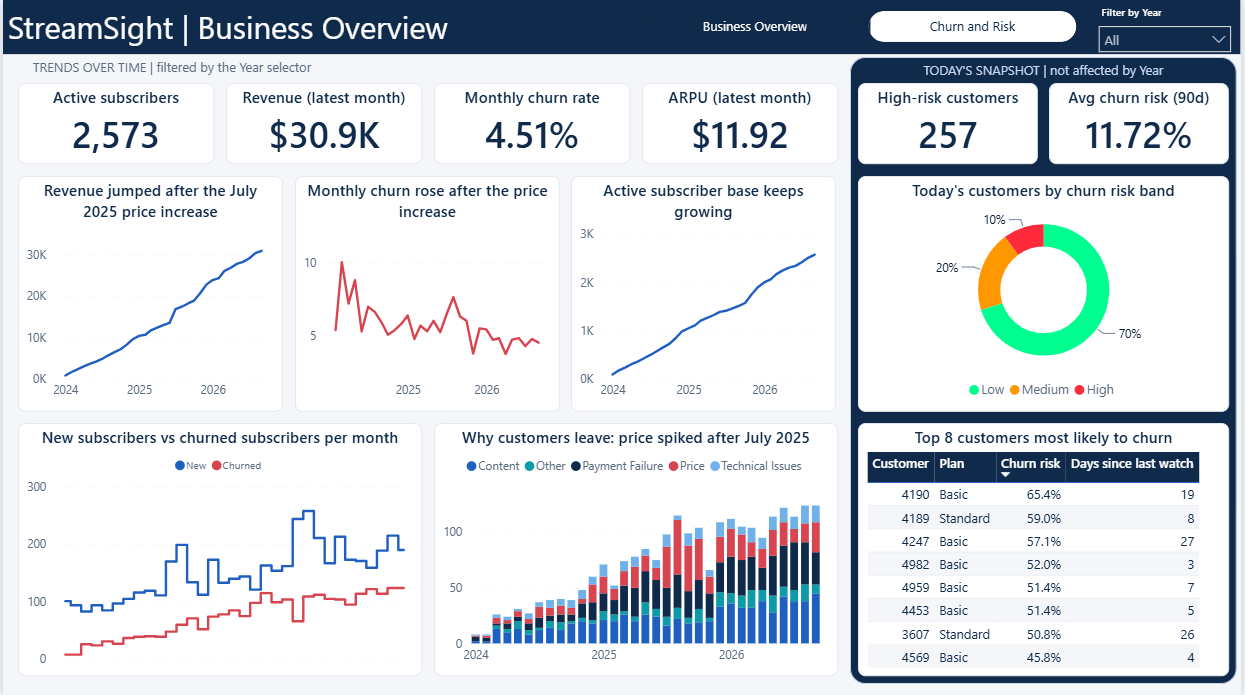

Layout of this report page (visuals, bound fields, positions):
{"tool":"powerbi","page":{"name":"Business Overview","canvas":[1280,720],"ordinal":0},"visuals":[{"type":"textbox","box":[0,0,1280,55.7],"z":0},{"type":"shape","box":[875.7,58.6,400,648.6],"z":1000},{"type":"card","title":"Active subscribers ","fields":{"Values":["vw_monthly_kpis.Active Subscribers"]},"box":[16,86,202.9,84.3],"z":2000},{"type":"card","title":"Revenue (latest month)","fields":{"Values":["vw_monthly_kpis.Monthly Revenue"]},"box":[231,86,203,84],"z":3000},{"type":"card","title":"ARPU (latest month)","fields":{"Values":["vw_monthly_kpis.Avg Revenue Per User"]},"box":[661,86,202.9,84.3],"z":4000},{"type":"card","title":"Monthly churn rate","fields":{"Values":["vw_monthly_kpis.Monthly Churn %"]},"box":[446,86,203,84],"z":5000},{"type":"lineChart","title":"Revenue jumped after the July 2025 price increase","fields":{"Category":["vw_monthly_kpis.month_start"],"Y":["Sum(vw_monthly_kpis.revenue)"]},"box":[16,182,274,244],"z":6000},{"type":"lineChart","title":"New subscribers vs churned subscribers per month","fields":{"Category":["vw_monthly_kpis.month_start"],"Y":["Sum(vw_monthly_kpis.new_subscribers)","Sum(vw_monthly_kpis.churned_subscribers)"]},"box":[16,438,418,262],"z":7000},{"type":"lineChart","title":"Active subscriber base keeps growing","fields":{"Category":["vw_monthly_kpis.month_start"],"Y":["Sum(vw_monthly_kpis.active_at_end)"]},"box":[588,182,274,244],"z":8000},{"type":"lineChart","title":"Monthly churn rose after the price increase","fields":{"Category":["vw_monthly_kpis.month_start"],"Y":["Sum(vw_monthly_kpis.monthly_churn_pct)"]},"box":[302,182,274,244],"z":9000},{"type":"columnChart","title":"Why customers leave: price spiked after July 2025","fields":{"Y":["Sum(vw_churn_reasons.churned_subscribers)"],"Category":["vw_churn_reasons.churn_month"],"Series":["vw_churn_reasons.churn_reason"]},"box":[446,438,418,262],"z":10000},{"type":"donutChart","title":"Today''s customers by churn risk band","fields":{"Category":["vw_churn_risk.risk_band"],"Y":["CountNonNull(vw_churn_risk.subscriber_id)"]},"box":[884,182,384,244],"z":11000},{"type":"card","title":"High-risk customers","fields":{"Values":["vw_churn_risk.High Risk Customers"]},"box":[884,86,186,84.3],"z":12000},{"type":"card","title":"Avg churn risk (90d)","fields":{"Values":["vw_churn_risk.Avg Churn Probability"]},"box":[1082,86,186,84.3],"z":13000},{"type":"pageNavigator","box":[670,11.4,440,32.9],"z":14000},{"type":"slicer","title":"Year","fields":{"Values":["DimDate.Year"]},"box":[1123.2,0,156.8,58.5],"z":15000},{"type":"textbox","box":[25.7,55.7,300,32.9],"z":16000},{"type":"textbox","box":[875.7,58.6,400,32.9],"z":17000},{"type":"tableEx","title":"Top 8 customers most likely to churn","fields":{"Values":["vw_churn_risk.subscriber_id","vw_churn_risk.plan_name","vw_churn_risk.churn_probability","vw_churn_risk.days_since_last_session"]},"box":[884,438,384,262],"z":18000}]}

Visuals, with their boxes in screenshot pixels (x1, y1, x2, y2), scaled from the page's 1280x720 canvas onto the 1245x695 screenshot:
textbox: 0:0:1244:54
shape: 852:57:1241:683
"Active subscribers " card: 16:83:213:164
"Revenue (latest month)" card: 225:83:422:164
"ARPU (latest month)" card: 643:83:840:164
"Monthly churn rate" card: 434:83:631:164
"Revenue jumped after the July 2025 price increase" lineChart: 16:176:282:411
"New subscribers vs churned subscribers per month" lineChart: 16:423:422:676
"Active subscriber base keeps growing" lineChart: 572:176:838:411
"Monthly churn rose after the price increase" lineChart: 294:176:560:411
"Why customers leave: price spiked after July 2025" columnChart: 434:423:840:676
"Today''s customers by churn risk band" donutChart: 860:176:1233:411
"High-risk customers" card: 860:83:1041:164
"Avg churn risk (90d)" card: 1052:83:1233:164
pageNavigator: 652:11:1080:43
"Year" slicer: 1092:0:1244:56
textbox: 25:54:317:86
textbox: 852:57:1241:88
"Top 8 customers most likely to churn" tableEx: 860:423:1233:676
